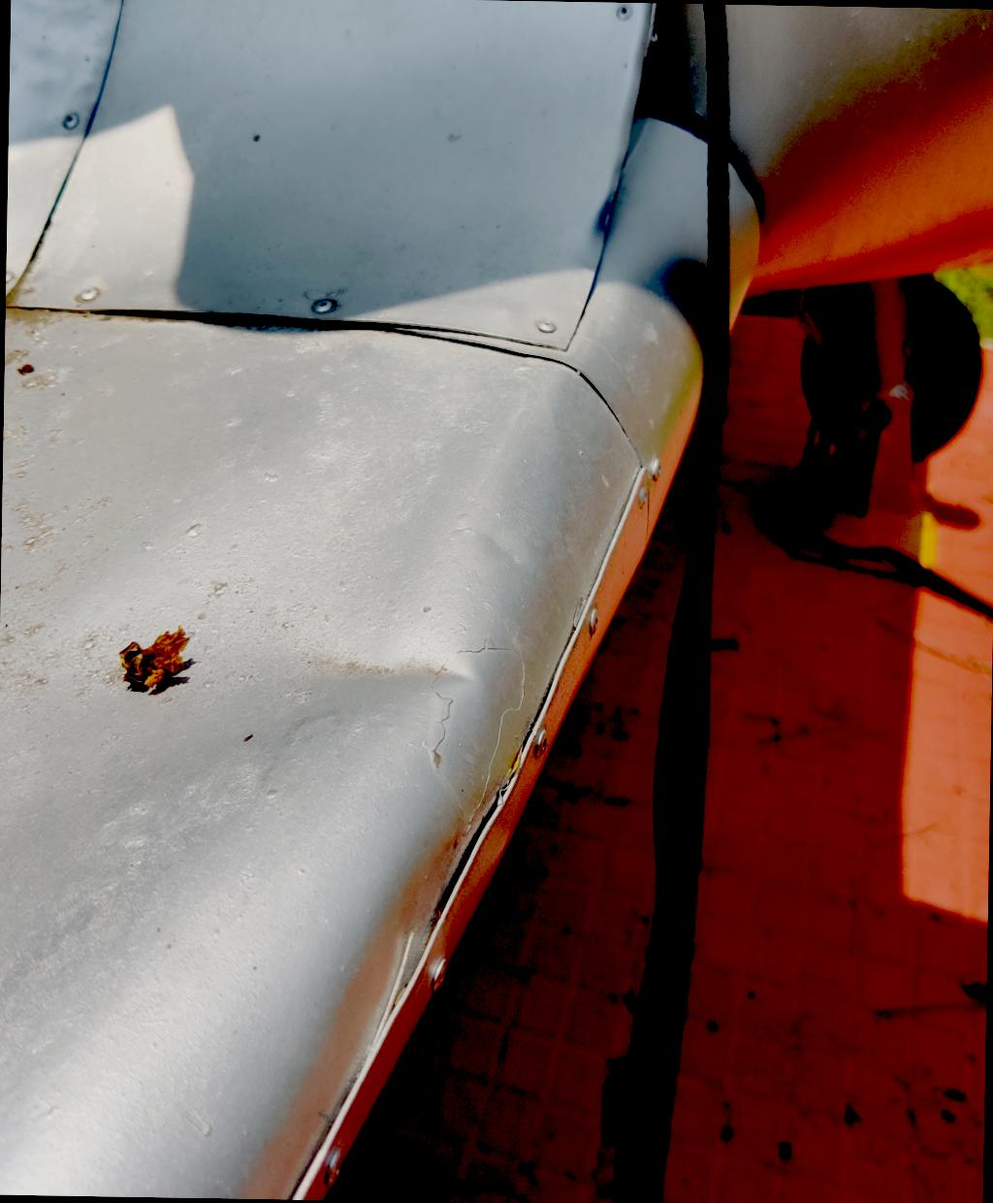dent: (276, 583, 487, 759)
